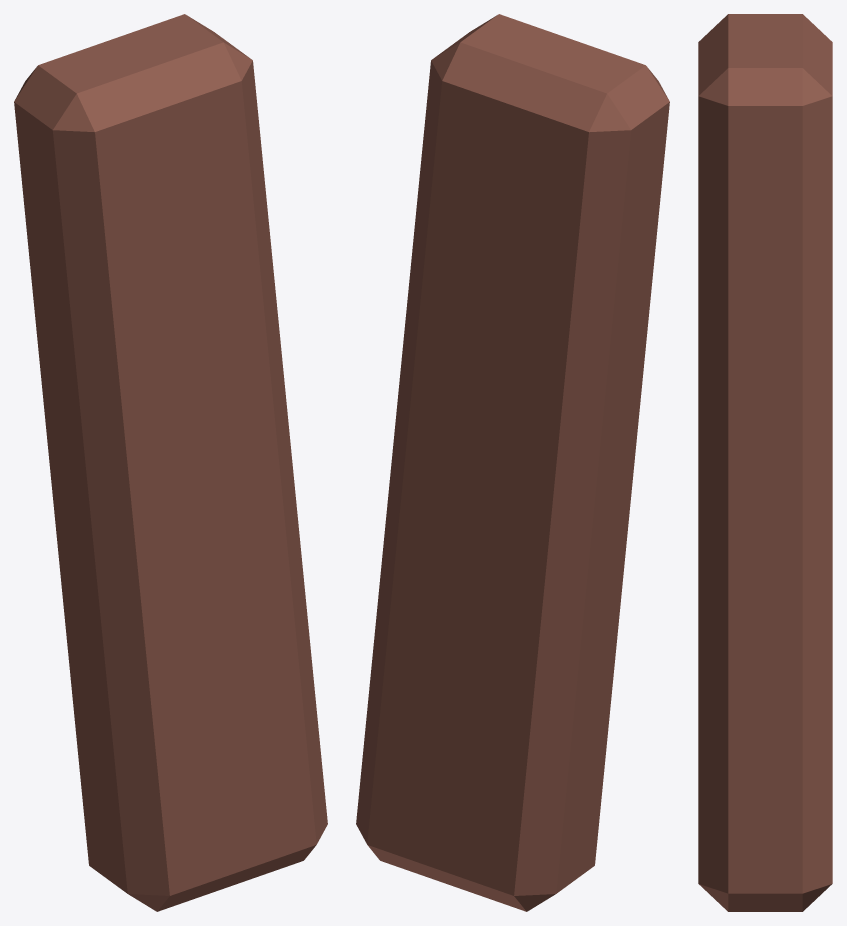
Rendered from scar_chin_split.glb.
The picture shows the model from 3 angles, left to right: view 1: azimuth 30°, elevation 25°; view 2: azimuth 150°, elevation 25°; view 3: azimuth 270°, elevation 25°; orthographic projection. The views are drawn at different scales.
Parts seen in each view (by area): view 1: scar_chin_split; view 2: scar_chin_split; view 3: scar_chin_split.
Boxes of the visible parts, box(x1,y1,x2,y2) form: scar_chin_split: box(14, 14, 327, 911); scar_chin_split: box(356, 14, 669, 911); scar_chin_split: box(698, 14, 832, 911).
Size of the model in its own units: 0.041 by 0.1216 by 0.018.
